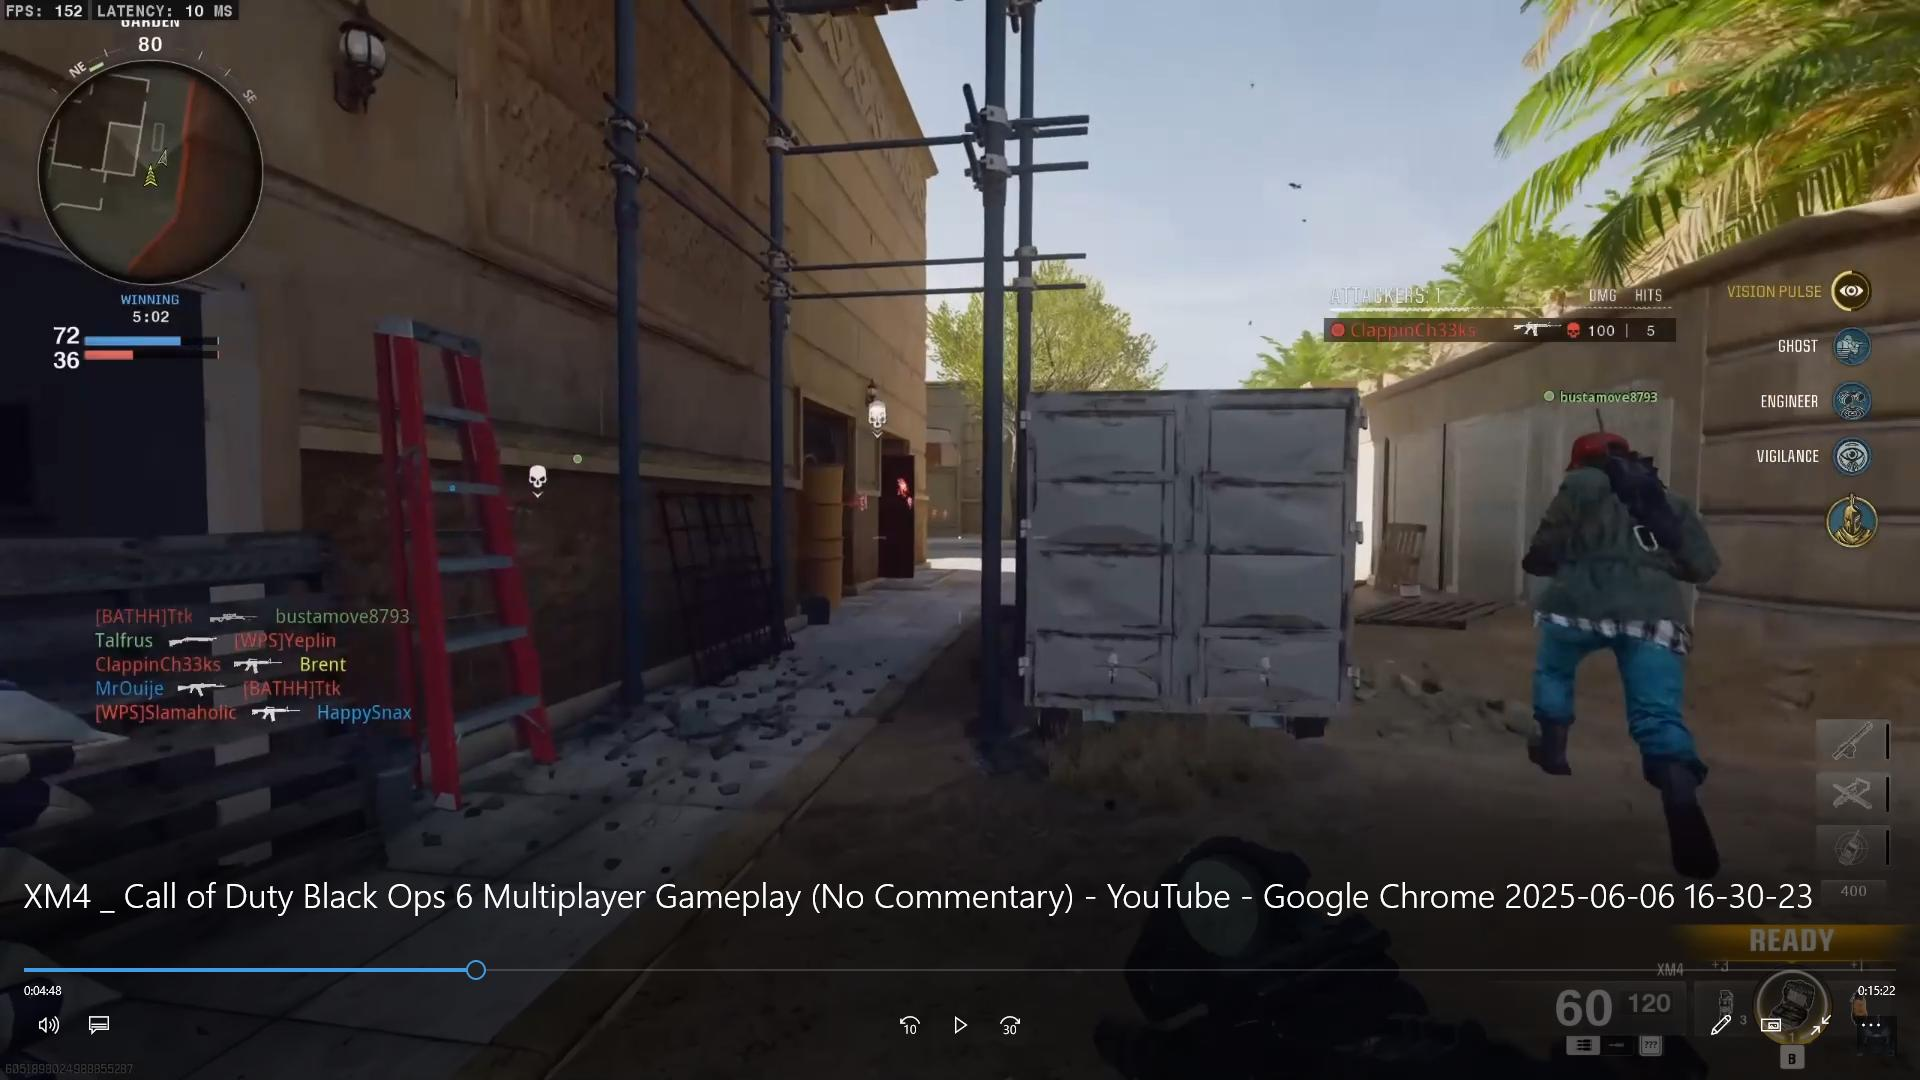Enemy: (1506, 410, 1774, 870)
